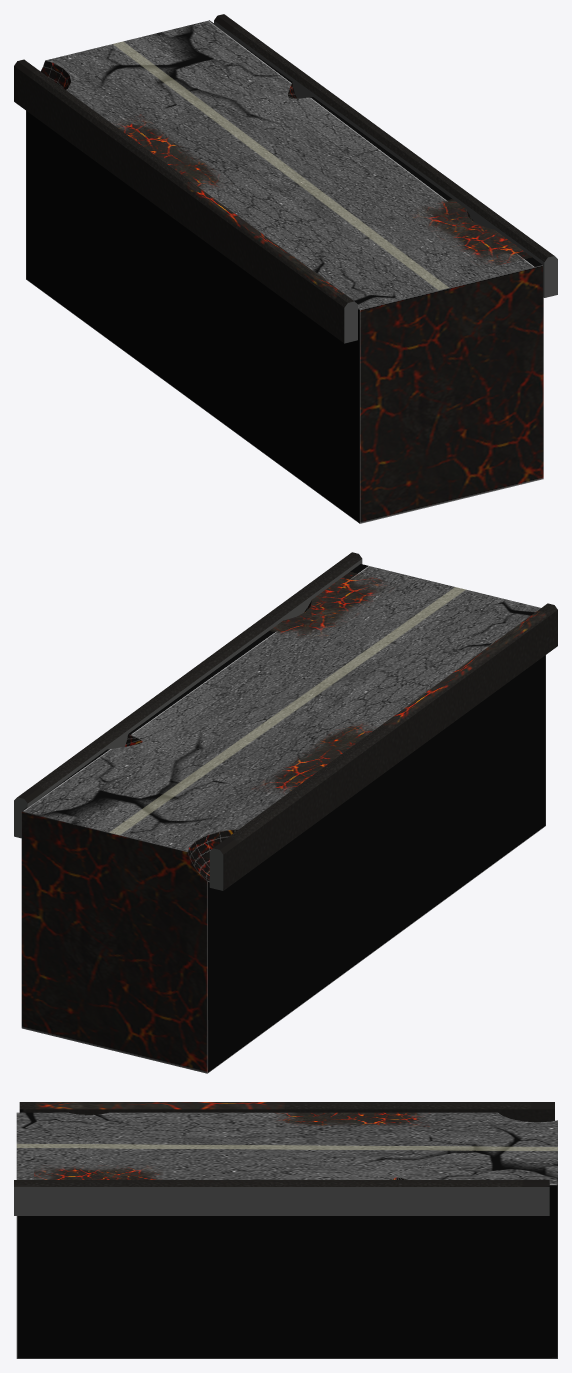
The model's file is Road.fbx.
3 views of the same model, one above another, from view 1: azimuth 30°, elevation 25°; view 2: azimuth 150°, elevation 25°; view 3: azimuth 270°, elevation 25° (orthographic). The views are drawn at different scales.
Parts seen in each view (by area): view 1: pCube9; view 2: pCube9; view 3: pCube9.
Part boxes in pixels (x1,y1,x2,y2): pCube9: [14, 14, 557, 523]; pCube9: [14, 552, 557, 1073]; pCube9: [14, 1102, 557, 1358].
Size of the model in its own units: 1135 by 1147 by 3141.
